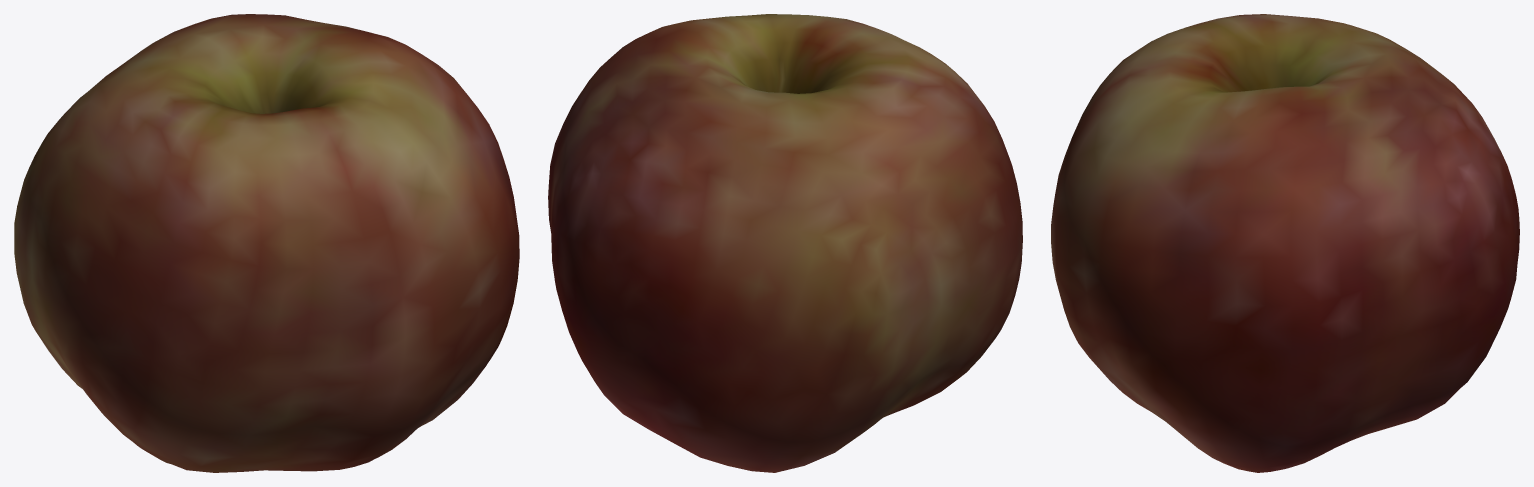
File: apple_2.fbx
The picture shows the model from 3 angles, left to right: view 1: azimuth 30°, elevation 25°; view 2: azimuth 150°, elevation 25°; view 3: azimuth 270°, elevation 25°; orthographic projection. The views are drawn at different scales.
Parts seen in each view (by area): view 1: apple_2; view 2: apple_2; view 3: apple_2.
Part boxes in pixels (x1,y1,x2,y2): apple_2: (14,14,519,472); apple_2: (548,14,1022,472); apple_2: (1051,14,1519,472).
Bounding box in the file's own units: 12.47 × 10.55 × 12.14.
